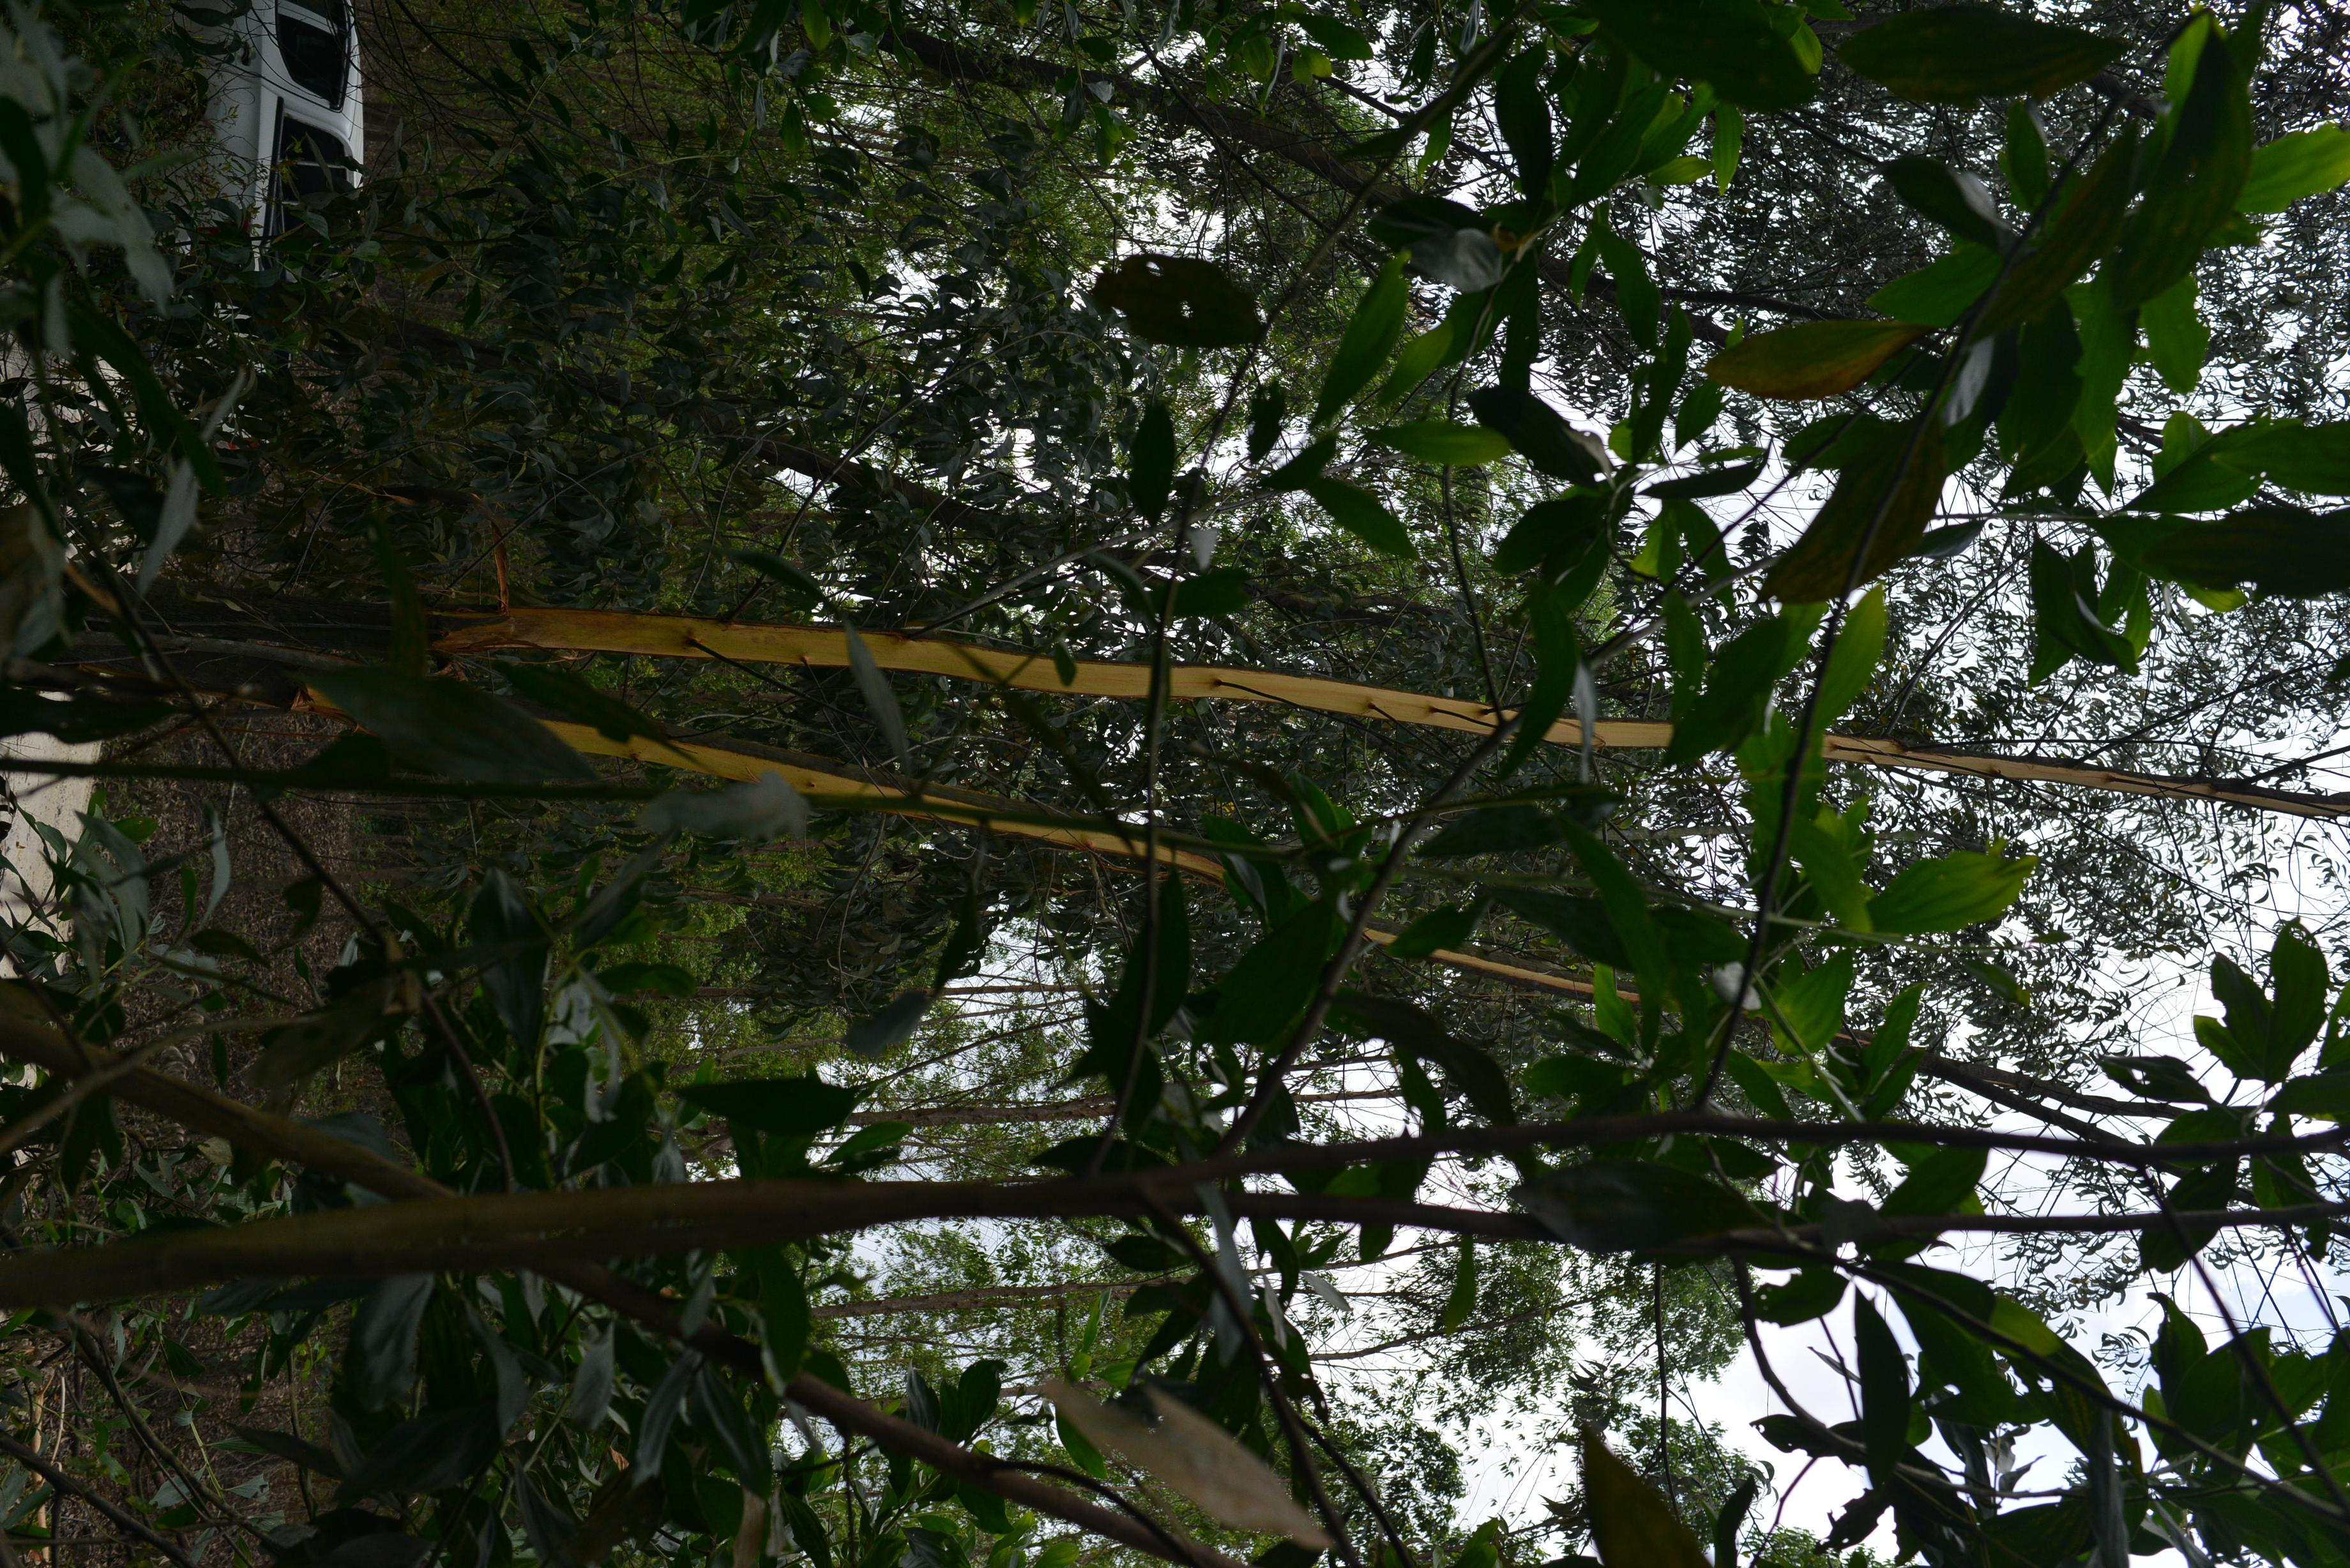Mammals Attack: (0, 597, 2350, 1097)
